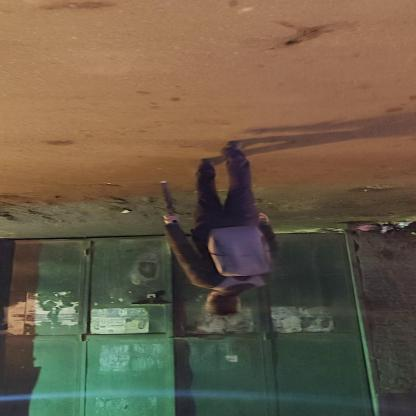long weapon: (142, 172, 191, 240)
